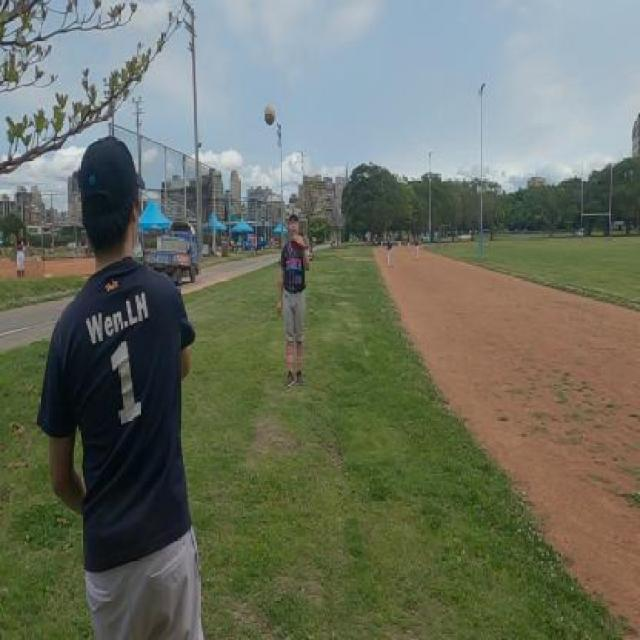baseball: (264, 105, 276, 126)
